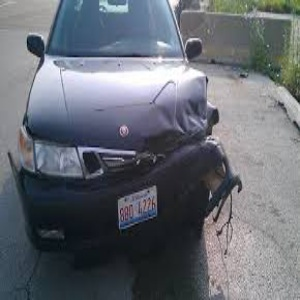bonnet: (116, 71, 209, 144)
bumper: (171, 150, 246, 212)
